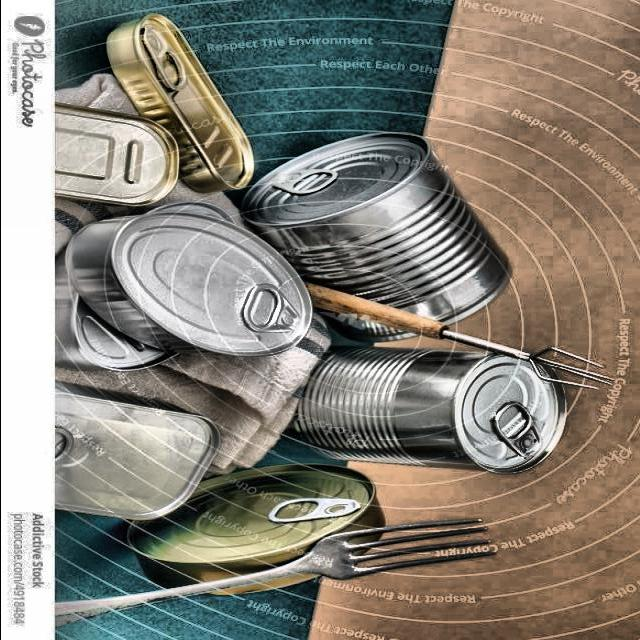litter: (237, 127, 513, 346), (66, 210, 320, 365), (109, 464, 393, 600), (286, 343, 572, 476), (33, 198, 236, 374), (101, 14, 261, 198), (46, 380, 225, 523), (48, 99, 185, 210)
